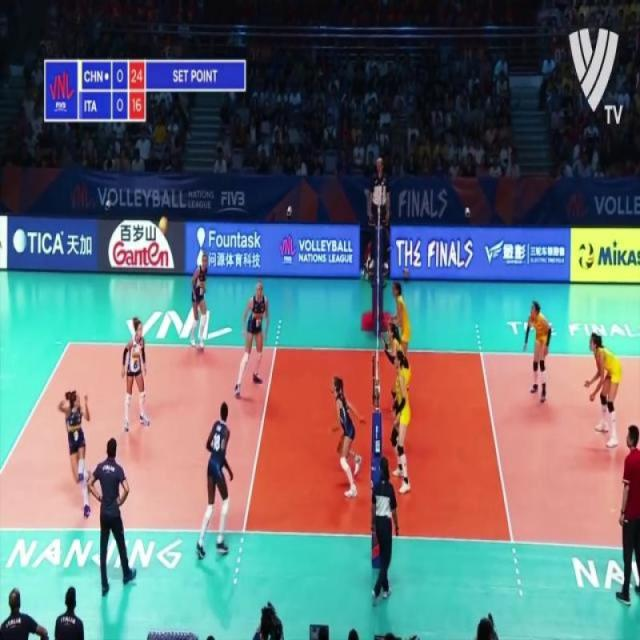volleyball: (578, 240, 595, 271), (156, 215, 170, 236)
